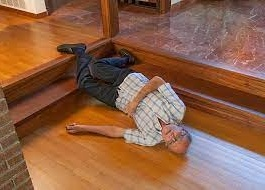fall: (52, 41, 198, 156)
